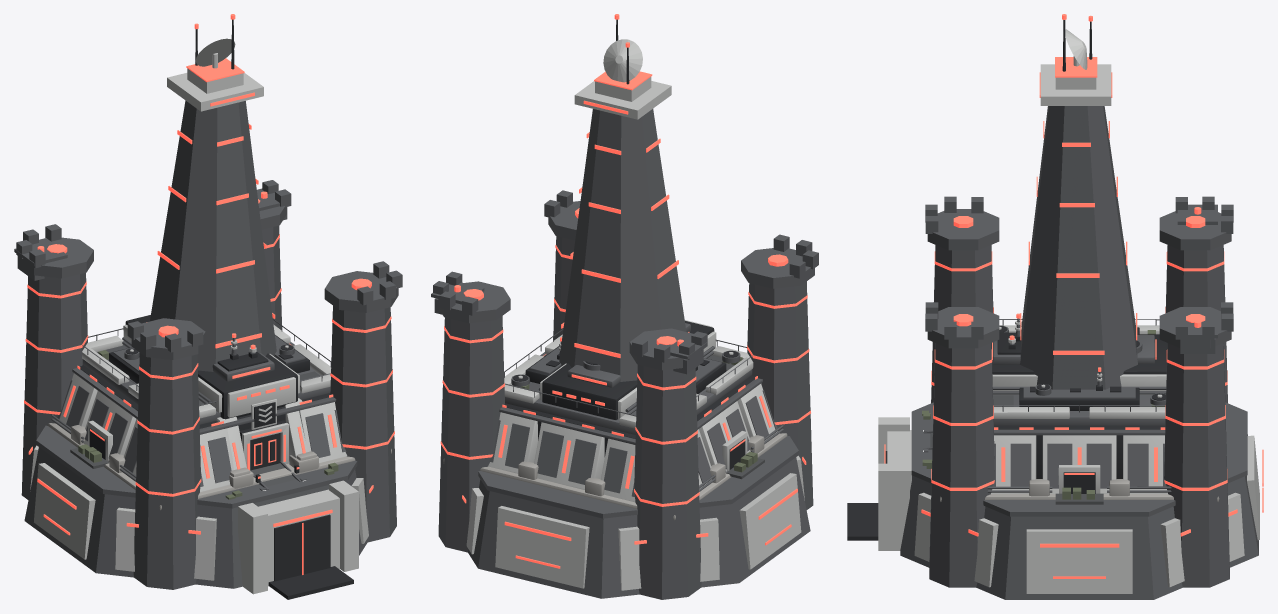
File: sb_caserne_t3.glb
3 views of the same model, side by side, from view 1: azimuth 30°, elevation 25°; view 2: azimuth 150°, elevation 25°; view 3: azimuth 270°, elevation 25° (orthographic). The views are drawn at different scales.
Parts seen in each view (by area): view 1: SM_CB3_BASTIONS, SM_CB_BODY, SM_CB3_MENHIR, SM_CB3_BUNKER, SM_CB3_GATE, SM_CB3_BUNKER_PLATES, SM_CB3_RED, SM_CB3_GATE_DOOR, SM_CB3_CROWN, SM_CB_LIGHTS, SM_CB2_WATCHTOWERS, SM_CB2_RADAR; view 2: SM_CB3_BASTIONS, SM_CB_BODY, SM_CB3_MENHIR, SM_CB3_BUNKER, SM_CB3_BUNKER_PLATES, SM_CB3_RED, SM_CB3_CROWN, SM_CB2_RADAR, SM_CB_LIGHTS, SM_CB2_WATCHTOWERS; view 3: SM_CB3_BASTIONS, SM_CB3_MENHIR, SM_CB_BODY, SM_CB3_BUNKER, SM_CB3_BUNKER_PLATES, SM_CB3_RED, SM_CB3_GATE, SM_CB3_CROWN, SM_CB2_WATCHTOWERS, SM_CB3_GATE_DOOR, SM_CB_LIGHTS.
Boxes of the visible parts, x1,y1,x2,y2 form: SM_CB3_BASTIONS: (16, 180, 402, 589); SM_CB_BODY: (47, 315, 391, 510); SM_CB3_MENHIR: (150, 100, 276, 371); SM_CB3_BUNKER: (24, 425, 367, 588); SM_CB3_GATE: (238, 480, 358, 594); SM_CB3_BUNKER_PLATES: (30, 445, 368, 580); SM_CB3_RED: (24, 58, 394, 574); SM_CB3_GATE_DOOR: (268, 514, 353, 599); SM_CB3_CROWN: (167, 68, 263, 111); SM_CB_LIGHTS: (63, 333, 337, 490); SM_CB2_WATCHTOWERS: (14, 188, 287, 280); SM_CB2_RADAR: (195, 38, 235, 68); SM_CB3_BASTIONS: (433, 190, 818, 599); SM_CB_BODY: (443, 320, 787, 520); SM_CB3_MENHIR: (559, 109, 686, 381); SM_CB3_BUNKER: (468, 436, 810, 598); SM_CB3_BUNKER_PLATES: (466, 455, 804, 590); SM_CB3_RED: (440, 71, 810, 568); SM_CB3_CROWN: (574, 77, 671, 119); SM_CB2_RADAR: (603, 39, 642, 82); SM_CB_LIGHTS: (498, 337, 771, 488); SM_CB2_WATCHTOWERS: (431, 282, 707, 374); SM_CB3_BASTIONS: (925, 196, 1233, 587); SM_CB3_MENHIR: (1020, 106, 1137, 389); SM_CB_BODY: (922, 318, 1219, 504); SM_CB3_BUNKER: (900, 402, 1258, 599); SM_CB3_BUNKER_PLATES: (914, 435, 1259, 593); SM_CB3_RED: (884, 57, 1263, 578); SM_CB3_GATE: (878, 417, 911, 550); SM_CB3_CROWN: (1040, 64, 1111, 105); SM_CB2_WATCHTOWERS: (1177, 204, 1217, 353); SM_CB3_GATE_DOOR: (847, 451, 887, 540); SM_CB_LIGHTS: (923, 313, 1165, 481).
Bounding box in the file's own units: 41.69 × 64.69 × 47.15.
